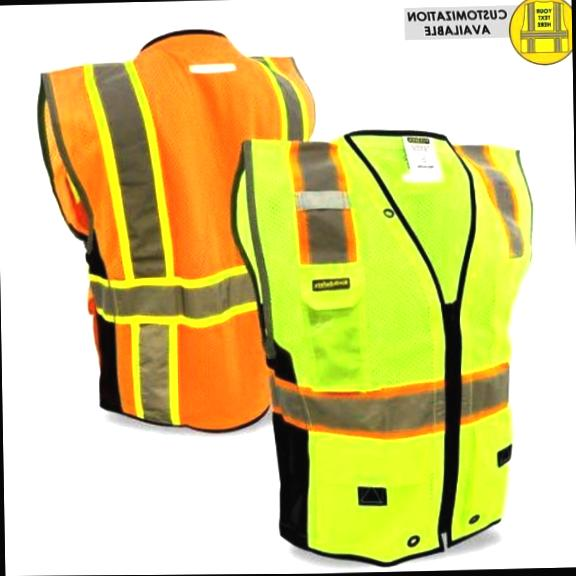safety_vest: (228, 125, 542, 568), (38, 24, 324, 433)
